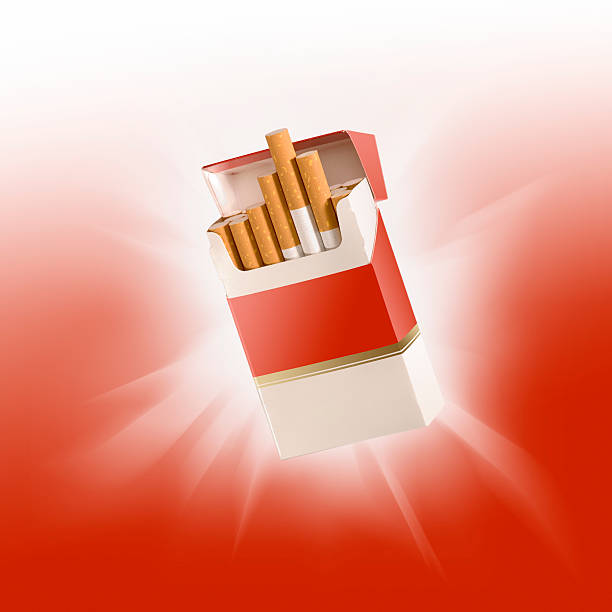cigarette: (197, 129, 445, 461), (266, 127, 326, 253), (294, 149, 342, 248), (258, 172, 307, 258), (247, 203, 284, 263), (207, 219, 244, 271), (230, 214, 265, 267), (331, 187, 352, 213)
